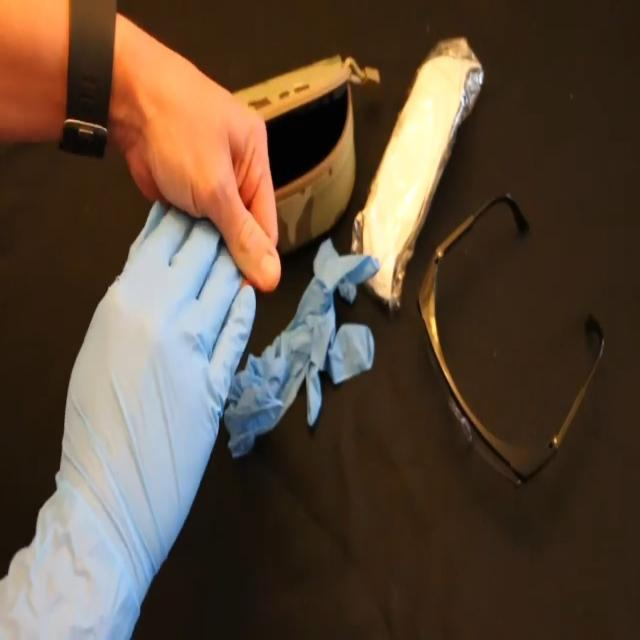Gloves: (0, 194, 261, 640)
